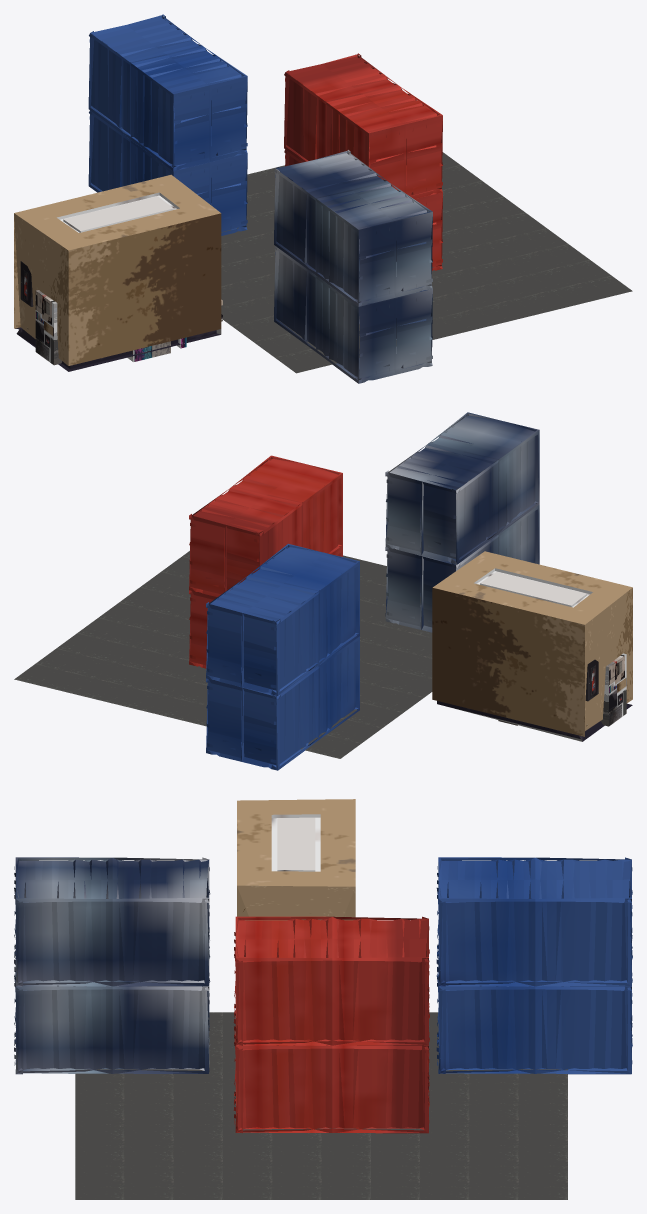
The model's file is Gamejam_Enviroment.fbx.
The picture shows the model from 3 angles, top to bottom: view 1: azimuth 30°, elevation 25°; view 2: azimuth 150°, elevation 25°; view 3: azimuth 270°, elevation 25°; orthographic projection. The views are drawn at different scales.
Visible parts, largest first — view 1: Enviroment; view 2: Enviroment; view 3: Enviroment.
Part boxes in pixels (x1,y1,x2,y2): Enviroment: [14, 14, 632, 383]; Enviroment: [14, 412, 632, 770]; Enviroment: [14, 799, 632, 1199].
Bounding box in the file's own units: 2660 × 885 × 2512.
Materials: 2 (1 with a texture image).
